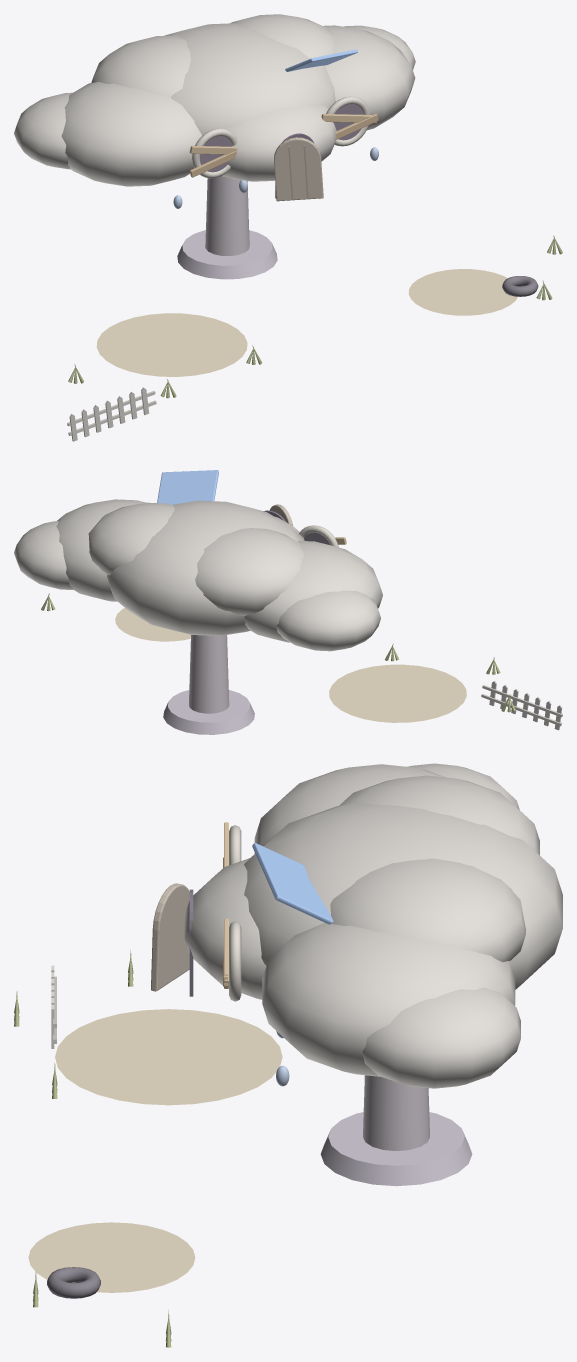
The model's file is building_sky_L01.glb.
The picture shows the model from 3 angles, top to bottom: view 1: azimuth 30°, elevation 25°; view 2: azimuth 150°, elevation 25°; view 3: azimuth 270°, elevation 25°; orthographic projection. The views are drawn at different scales.
Parts seen in each view (by area): view 1: Body, sky_L1; view 2: Body, sky_L1; view 3: Body, sky_L1.
Part boxes in pixels (x1,y1,x2,y2): Body: (14, 14, 415, 279); sky_L1: (67, 235, 562, 441); Body: (14, 470, 382, 734); sky_L1: (41, 593, 562, 730); Body: (151, 763, 562, 1186); sky_L1: (14, 949, 282, 1347).
Bounding box in the file's own units: 24.39 × 11.33 × 14.47.
